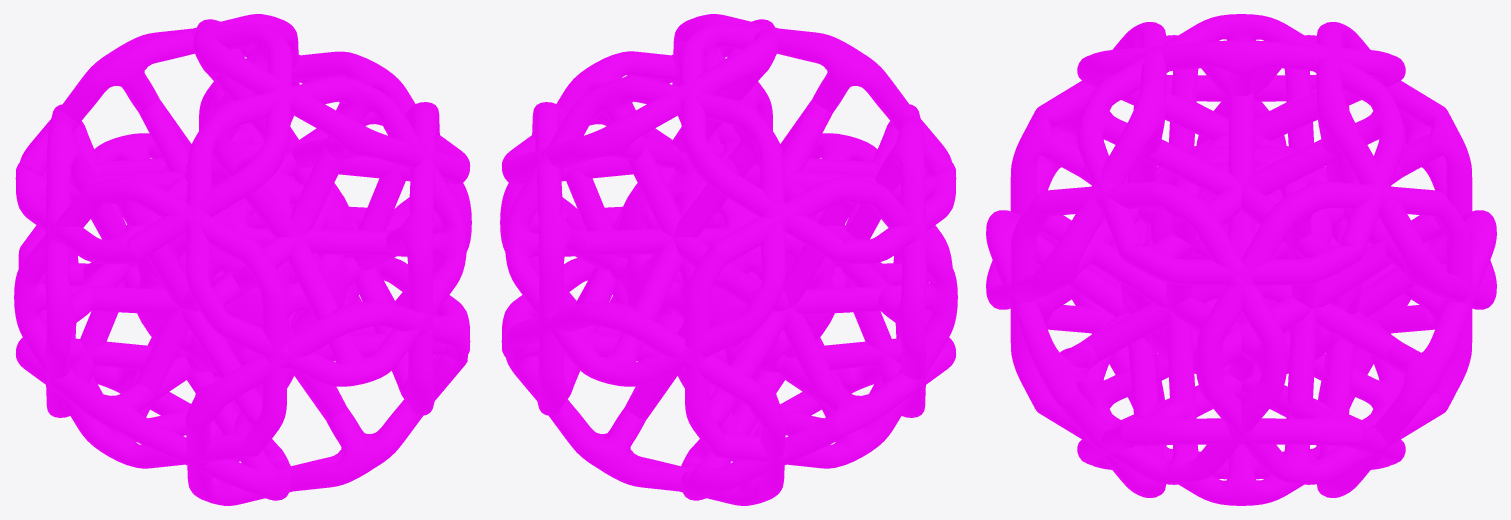
File: Saucer-Missile.glb
3 views of the same model, side by side, from view 1: azimuth 30°, elevation 25°; view 2: azimuth 150°, elevation 25°; view 3: azimuth 270°, elevation 25° (orthographic). The views are drawn at different scales.
Parts seen in each view (by area): view 1: Solid; view 2: Solid; view 3: Solid.
Boxes of the visible parts, x1,y1,x2,y2 form: Solid: (14,14,471,505); Solid: (500,14,957,505); Solid: (986,14,1496,505).
Size of the model in its own units: 4.36 by 4.38 by 4.38.
